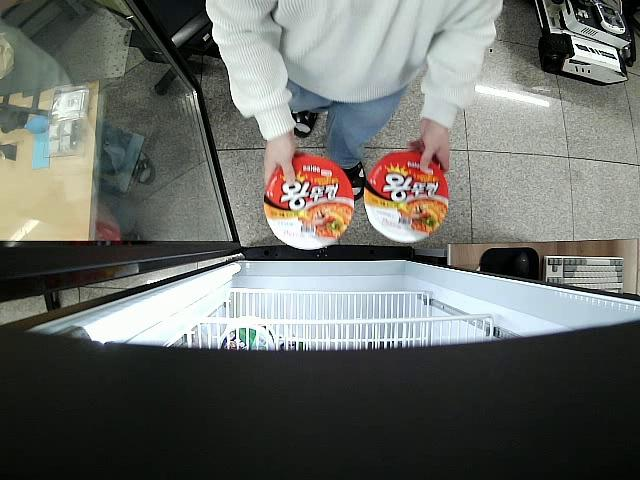00_hand: (406, 115, 451, 179), (263, 132, 297, 191)
10_wangTtukkeong: (265, 155, 354, 250), (365, 151, 448, 242)
